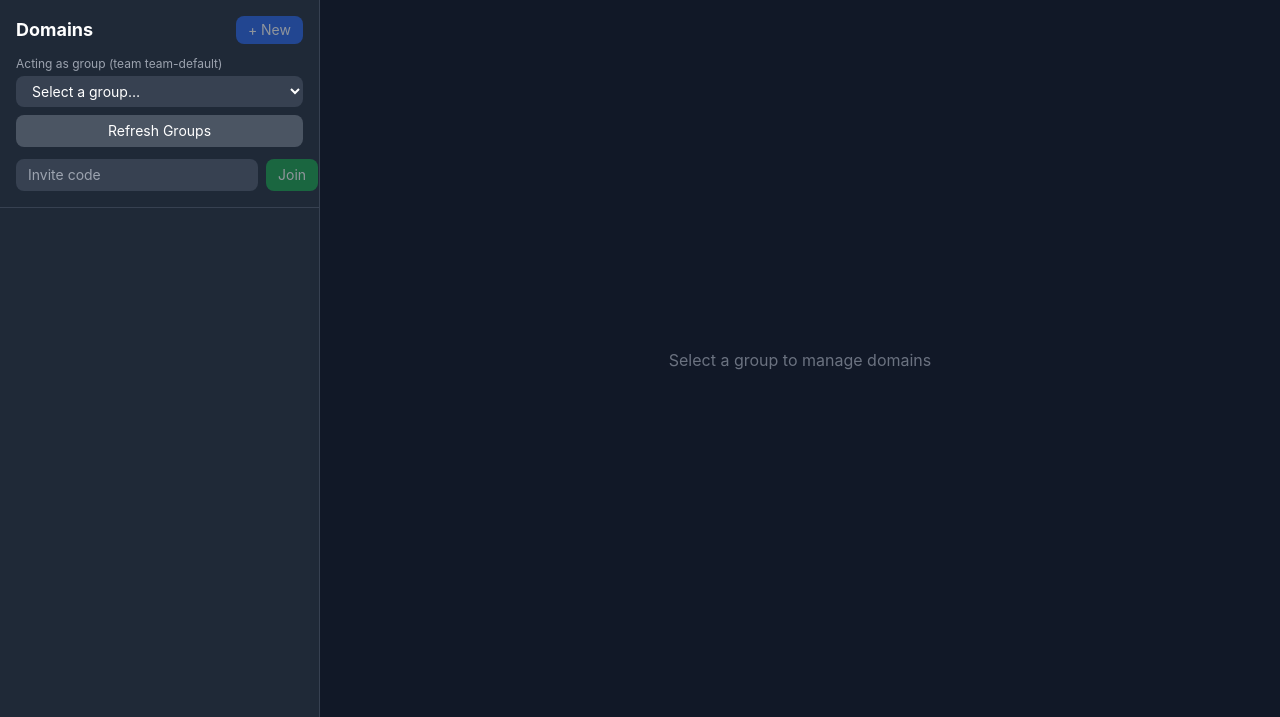
Test: Slice 5: DomainsPage › rejects owner leave with a dissolve-domain hint
Select "Alpha" in the dropdown at coordinates (160, 92), box x1=16 y1=76 x2=303 y2=107
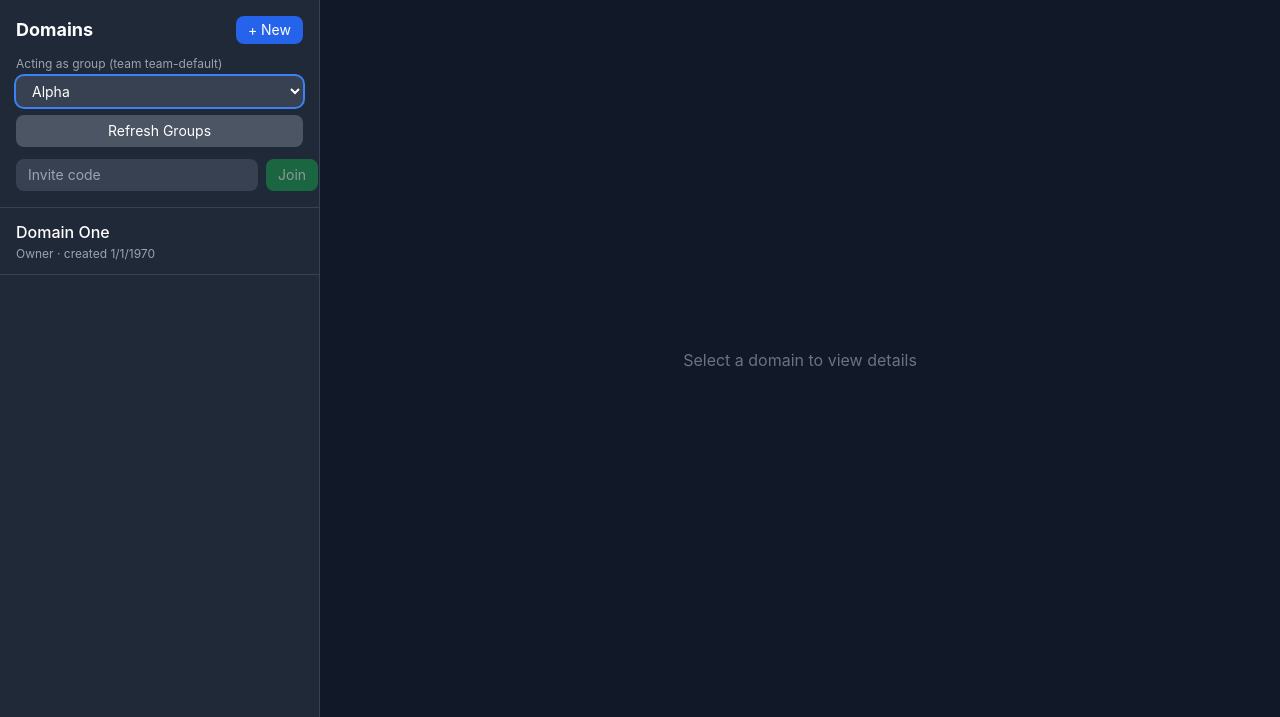
Check: the text "Domain One" is shown
Click the text "Domain One" at coordinates (63, 232), box x1=16 y1=222 x2=110 y2=242
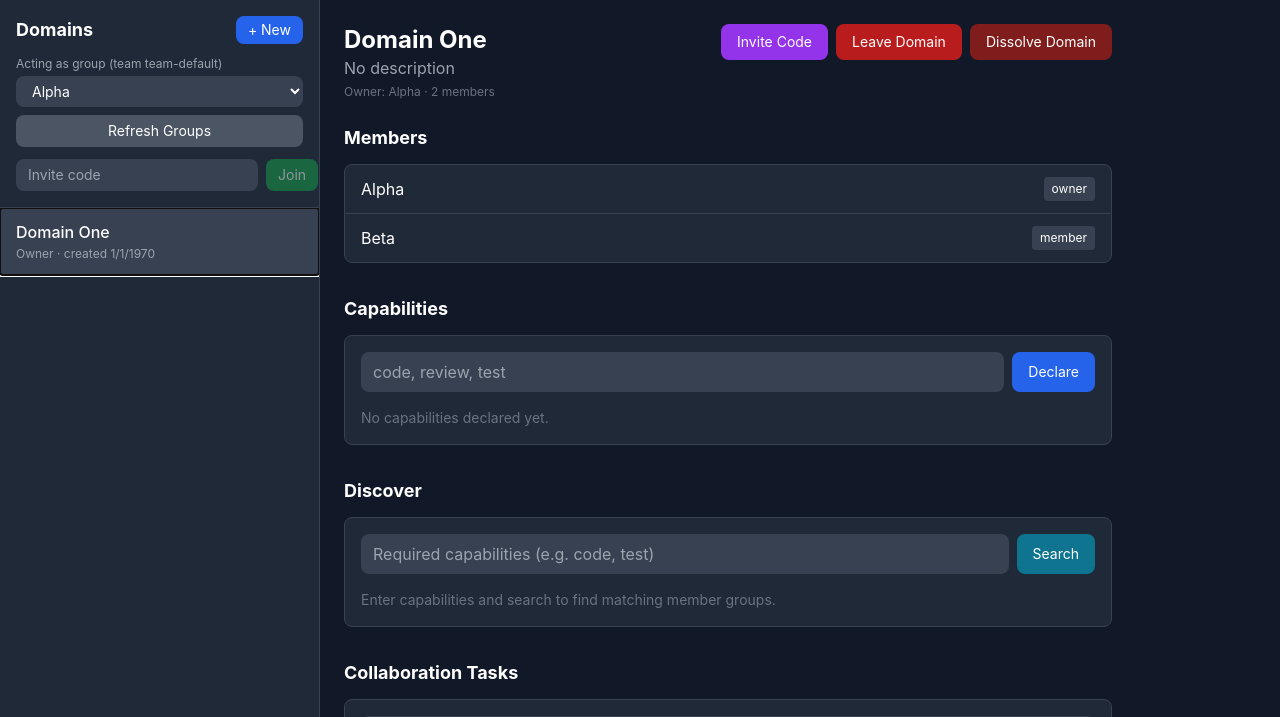
Check: the button "Leave Domain" is shown
Click the button "Leave Domain" at coordinates (899, 42), box x1=836 y1=24 x2=962 y2=60
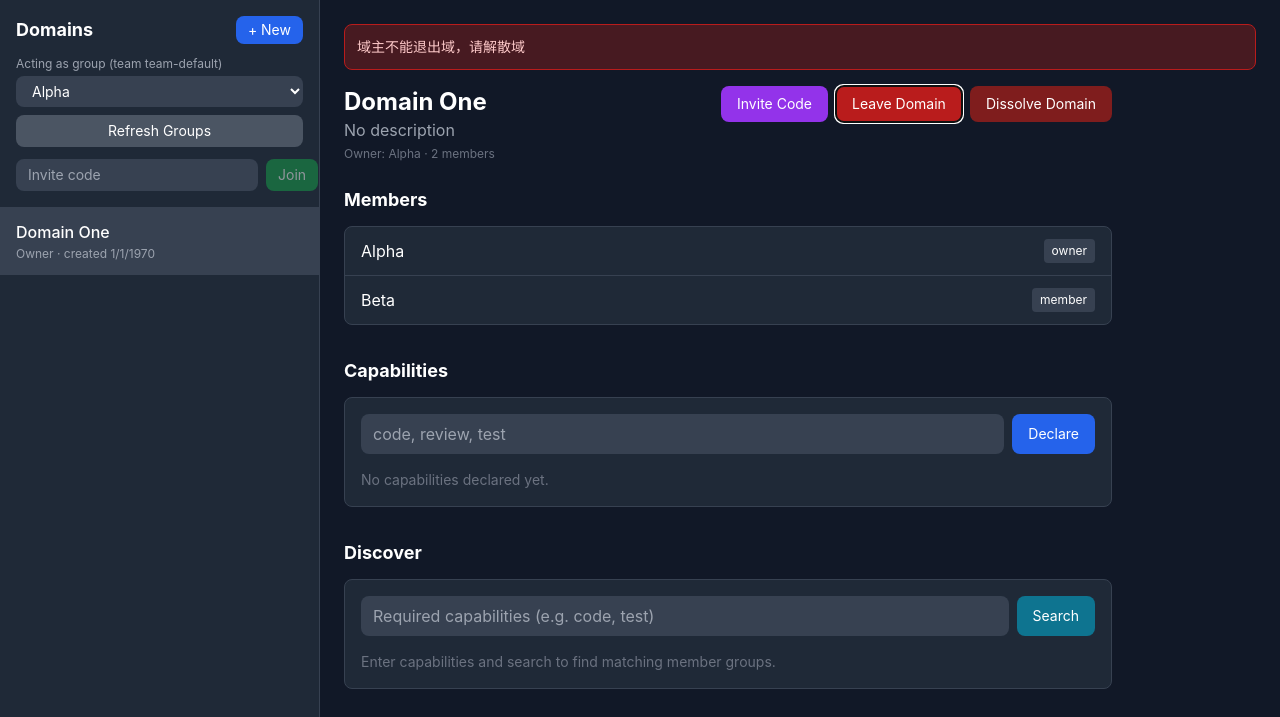
Check: the text "域主不能退出域，请解散域" is shown, box x1=344 y1=24 x2=1256 y2=70
